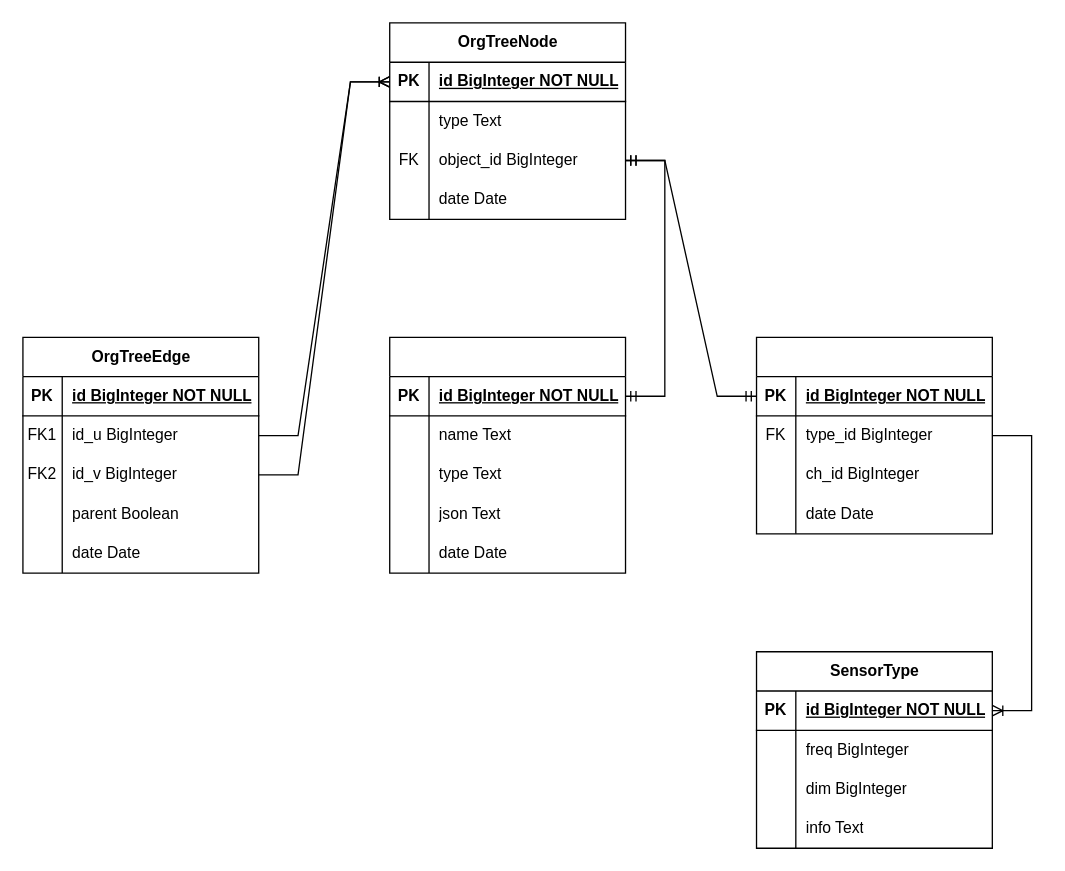
Image size: 1065x871. Some labels were removed from this diagram. The box of each missing label's shape, as (x1, y1, x2, y2) in pixels:
OrgUnit: (388, 336, 626, 573)
Sensor: (755, 336, 992, 534)
